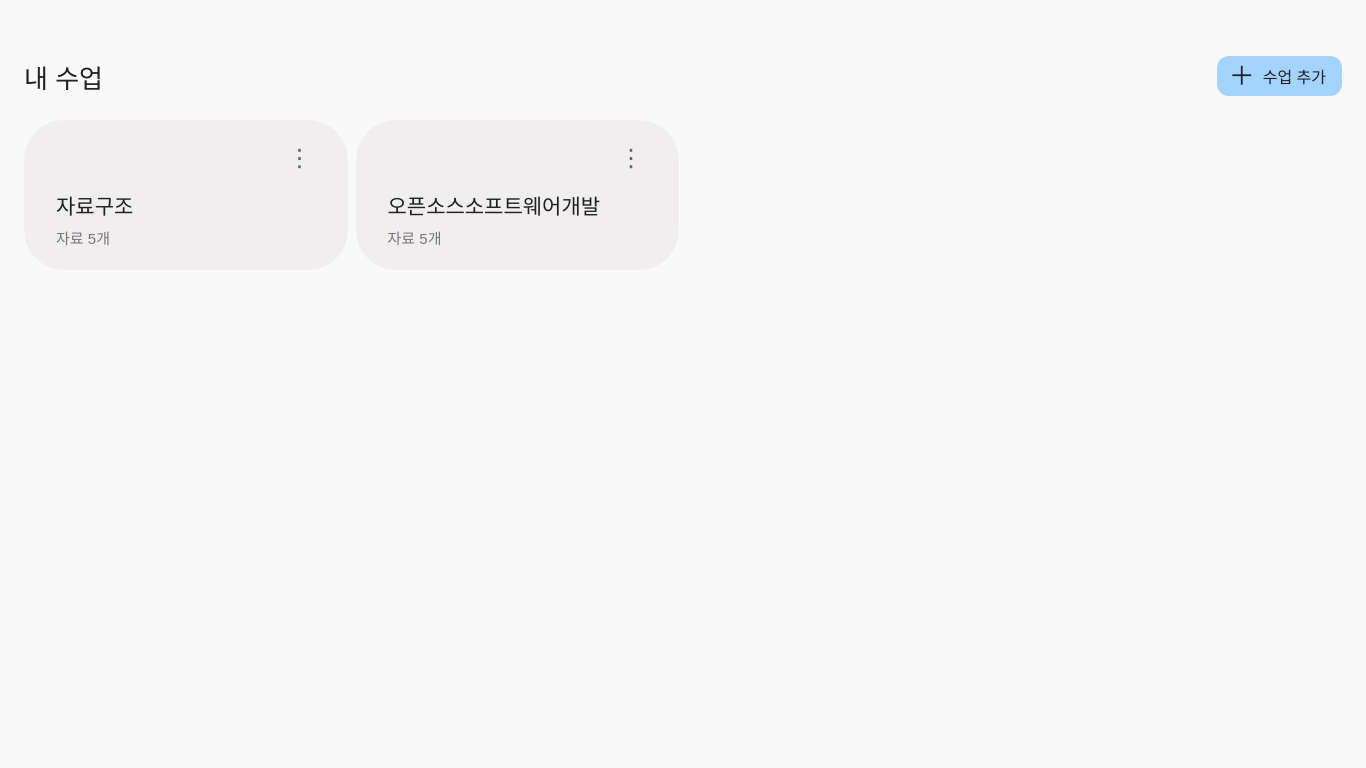
Scenario: closes deletion confirmation on outside click without deleting
This screenshot has width=1366, height=768.
Click the button named "자료구조 메뉴". click: (300,158)
box: 284,140 -> 316,176
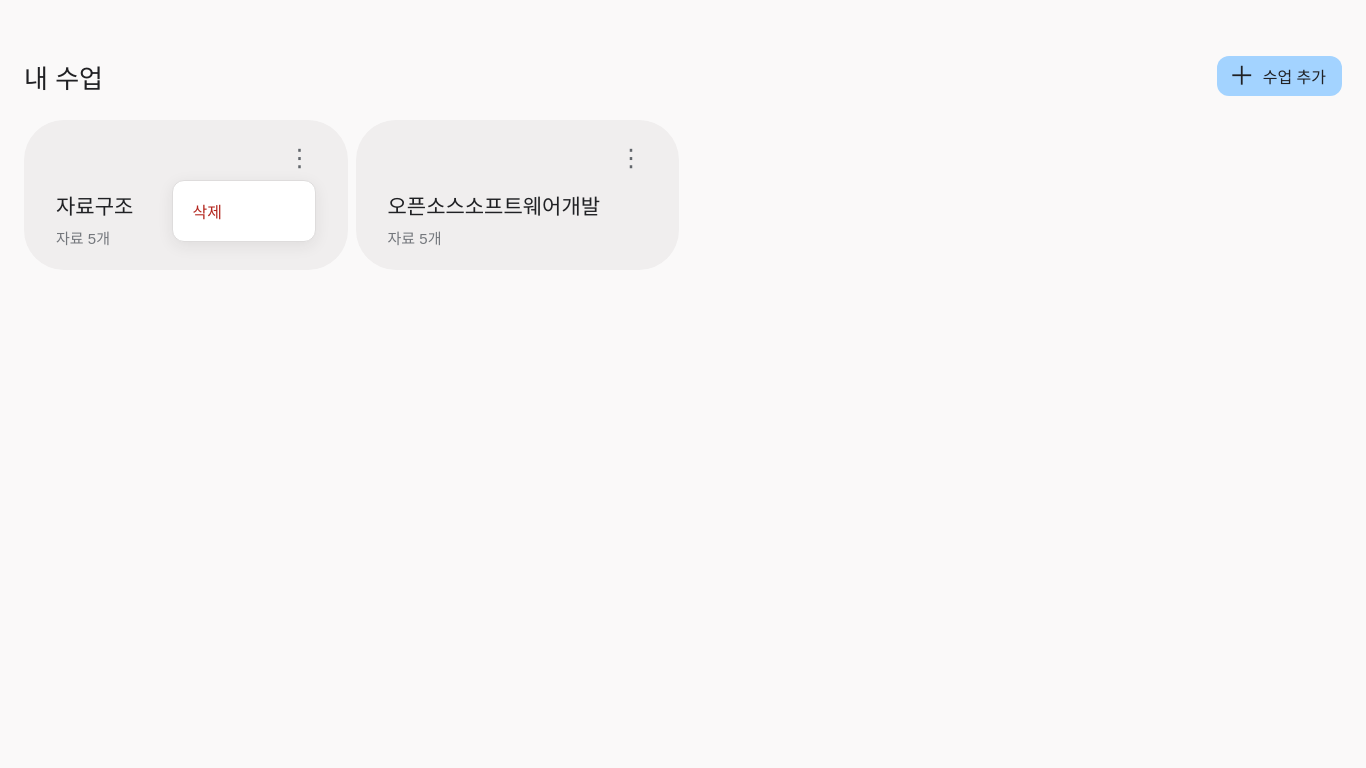
Click the button "삭제". click: (244,211)
box: 180,189 -> 306,233
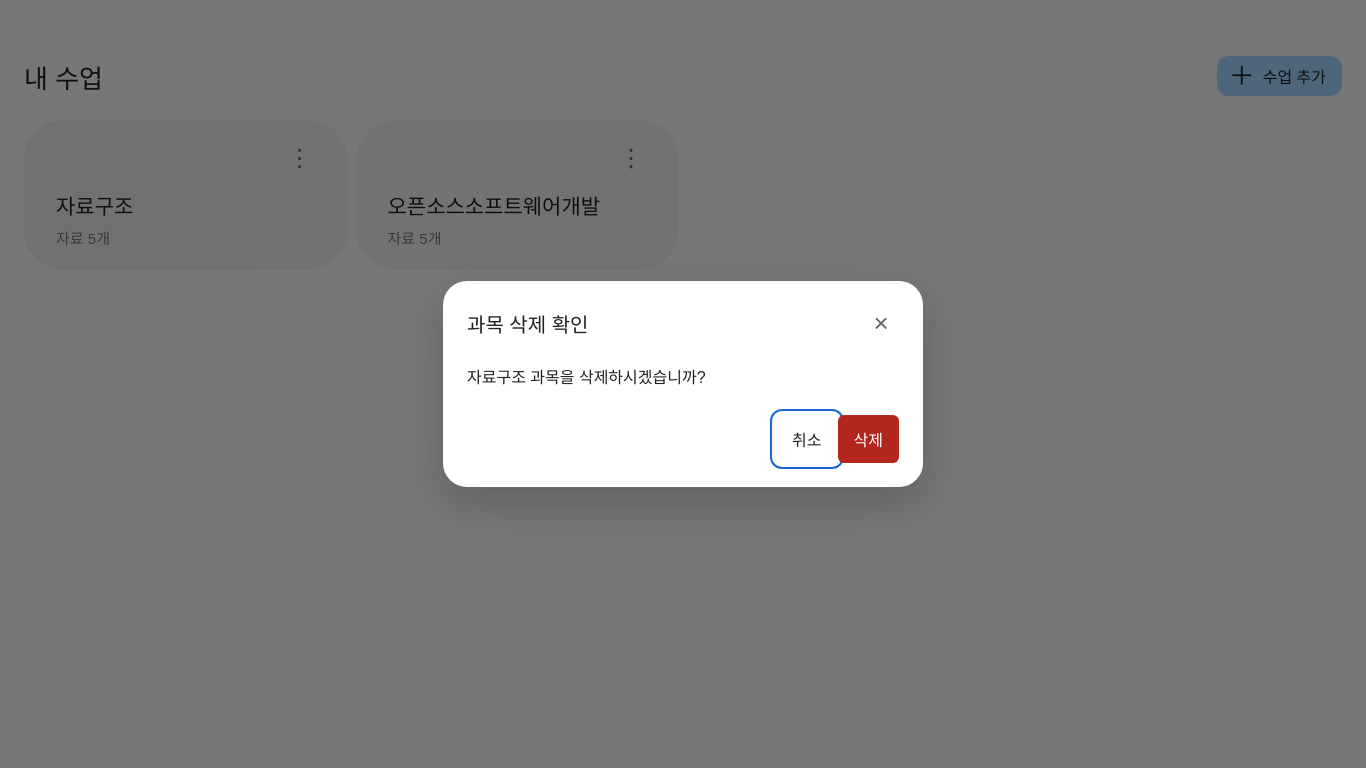
Click the element showing "과목 삭제 확인 × 자료구조 과목을 삭제하시겠습니까? 취소 삭제". click: (82,384)
box: 0,0 -> 1365,767
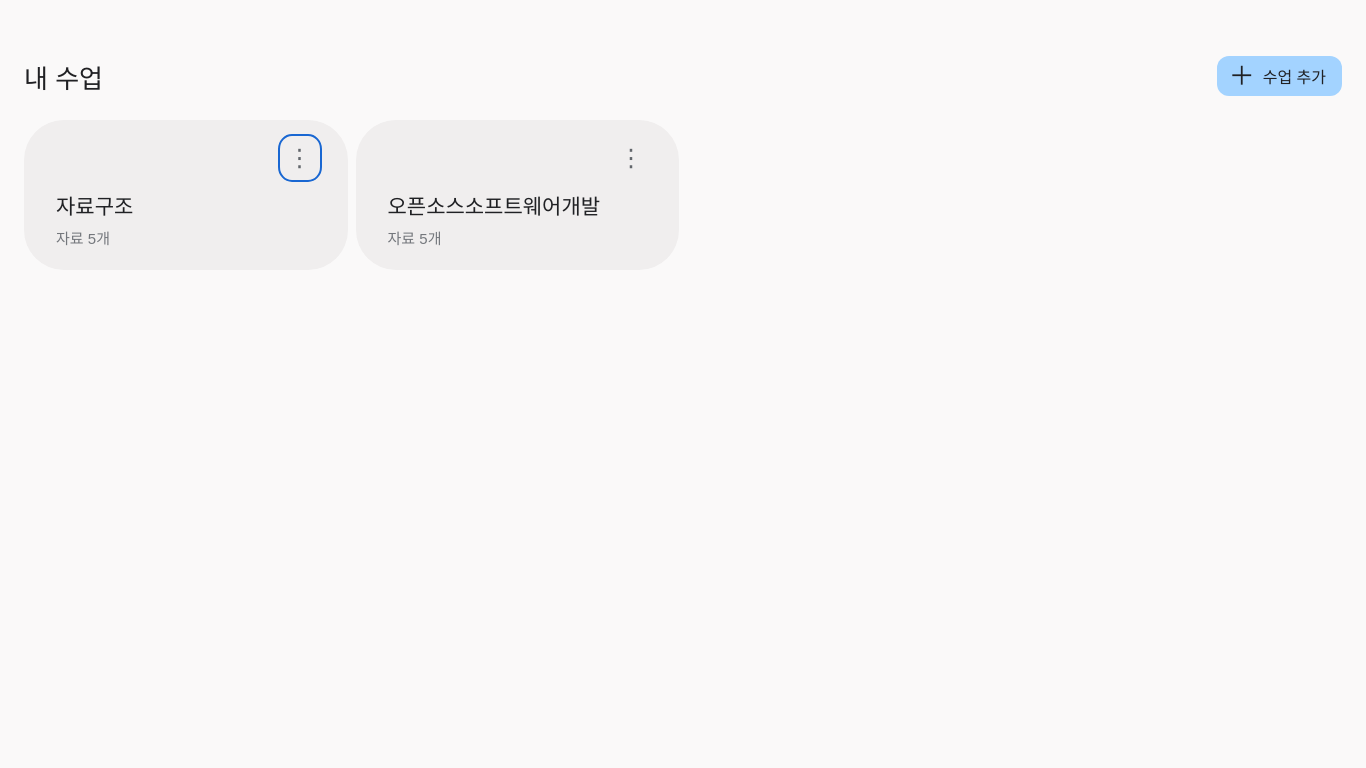
Expected: the number of list items is 2, 24,120 -> 348,270; 356,120 -> 679,270
Expected: the heading "과목 삭제 확인" is gone
